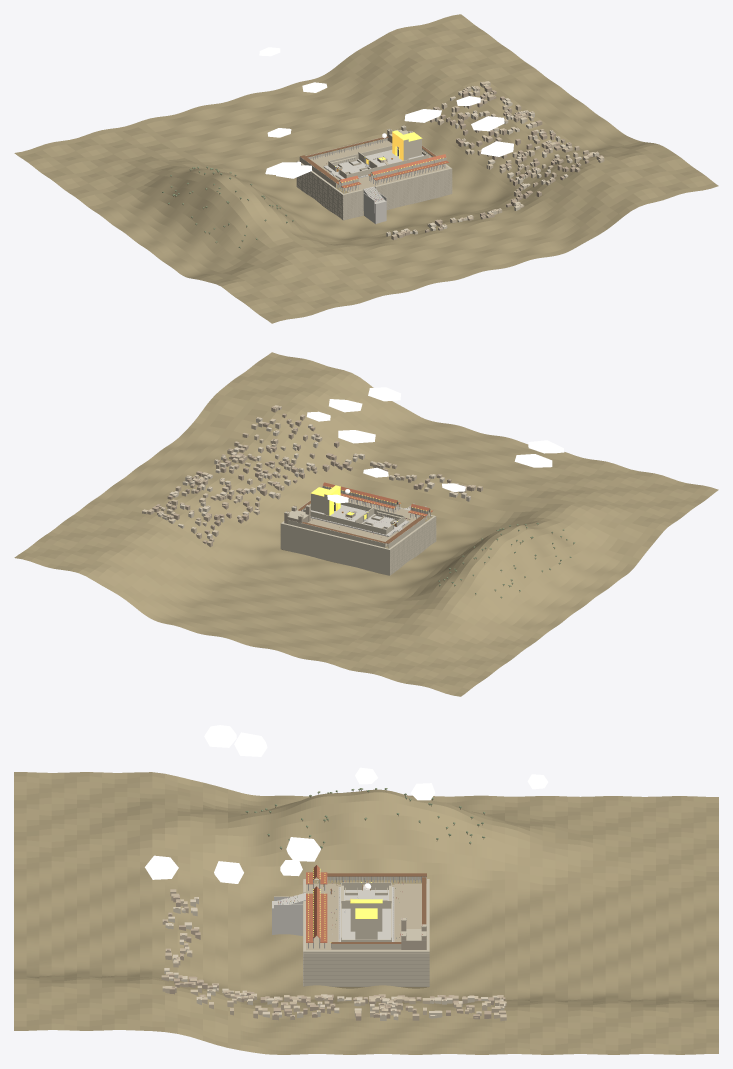
File: herod.glb
3 views of the same model, one above another, from view 1: azimuth 30°, elevation 25°; view 2: azimuth 150°, elevation 25°; view 3: azimuth 270°, elevation 25° (orthographic). The views are drawn at different scales.
Visible parts, largest first — view 1: Terrain, RetainingWalls, CityHouses3, CityHouses1, CityHouses0, CityHouses2, Platform, WallCourses, InnerWalls, InnerPlatform, HuldahStairs, StoaRoof (+2 smaller); view 2: Terrain, RetainingWalls, CityHouses3, CityHouses2, CityHouses1, CityHouses0, InnerWalls, Platform, InnerPlatform, PorchWall, StoaRoof; view 3: Terrain, RetainingWalls, Platform, CityHouses2, CityHouses1, CityHouses0, CityHouses3, InnerPlatform, StoaRoof, WallCourses, HuldahStairs, SanctuaryStone (+8 smaller).
Boxes of the visible parts, x1,y1,x2,y2 form: Terrain: (14,14,718,323); RetainingWalls: (296,160,452,220); CityHouses3: (398,86,603,236); CityHouses1: (391,81,598,239); CityHouses0: (388,81,604,235); CityHouses2: (386,86,599,236); Platform: (310,140,448,192); WallCourses: (297,170,449,220); InnerWalls: (328,145,429,178); InnerPlatform: (323,150,423,179); HuldahStairs: (363,186,386,223); StoaRoof: (336,154,448,188); Terrain: (14,352,718,696); RetainingWalls: (280,506,436,575); CityHouses3: (152,406,472,543); CityHouses2: (158,417,470,538); CityHouses1: (147,408,482,547); CityHouses0: (142,405,468,536); InnerWalls: (303,502,404,534); Platform: (302,498,427,546); InnerPlatform: (310,504,409,536); PorchWall: (287,500,425,548); StoaRoof: (323,482,432,516); Terrain: (14,772,718,1054); RetainingWalls: (303,879,429,986); Platform: (306,883,426,950); CityHouses2: (164,897,505,1020); CityHouses1: (161,889,505,1020); CityHouses0: (162,897,506,1021); CityHouses3: (164,894,505,1020); InnerPlatform: (338,886,394,941); StoaRoof: (306,865,327,942); WallCourses: (303,881,429,986); HuldahStairs: (272,893,305,935); SanctuaryStone: (350,903,382,939).
Bounding box in the file's own units: 1120 × 256 × 1120.
